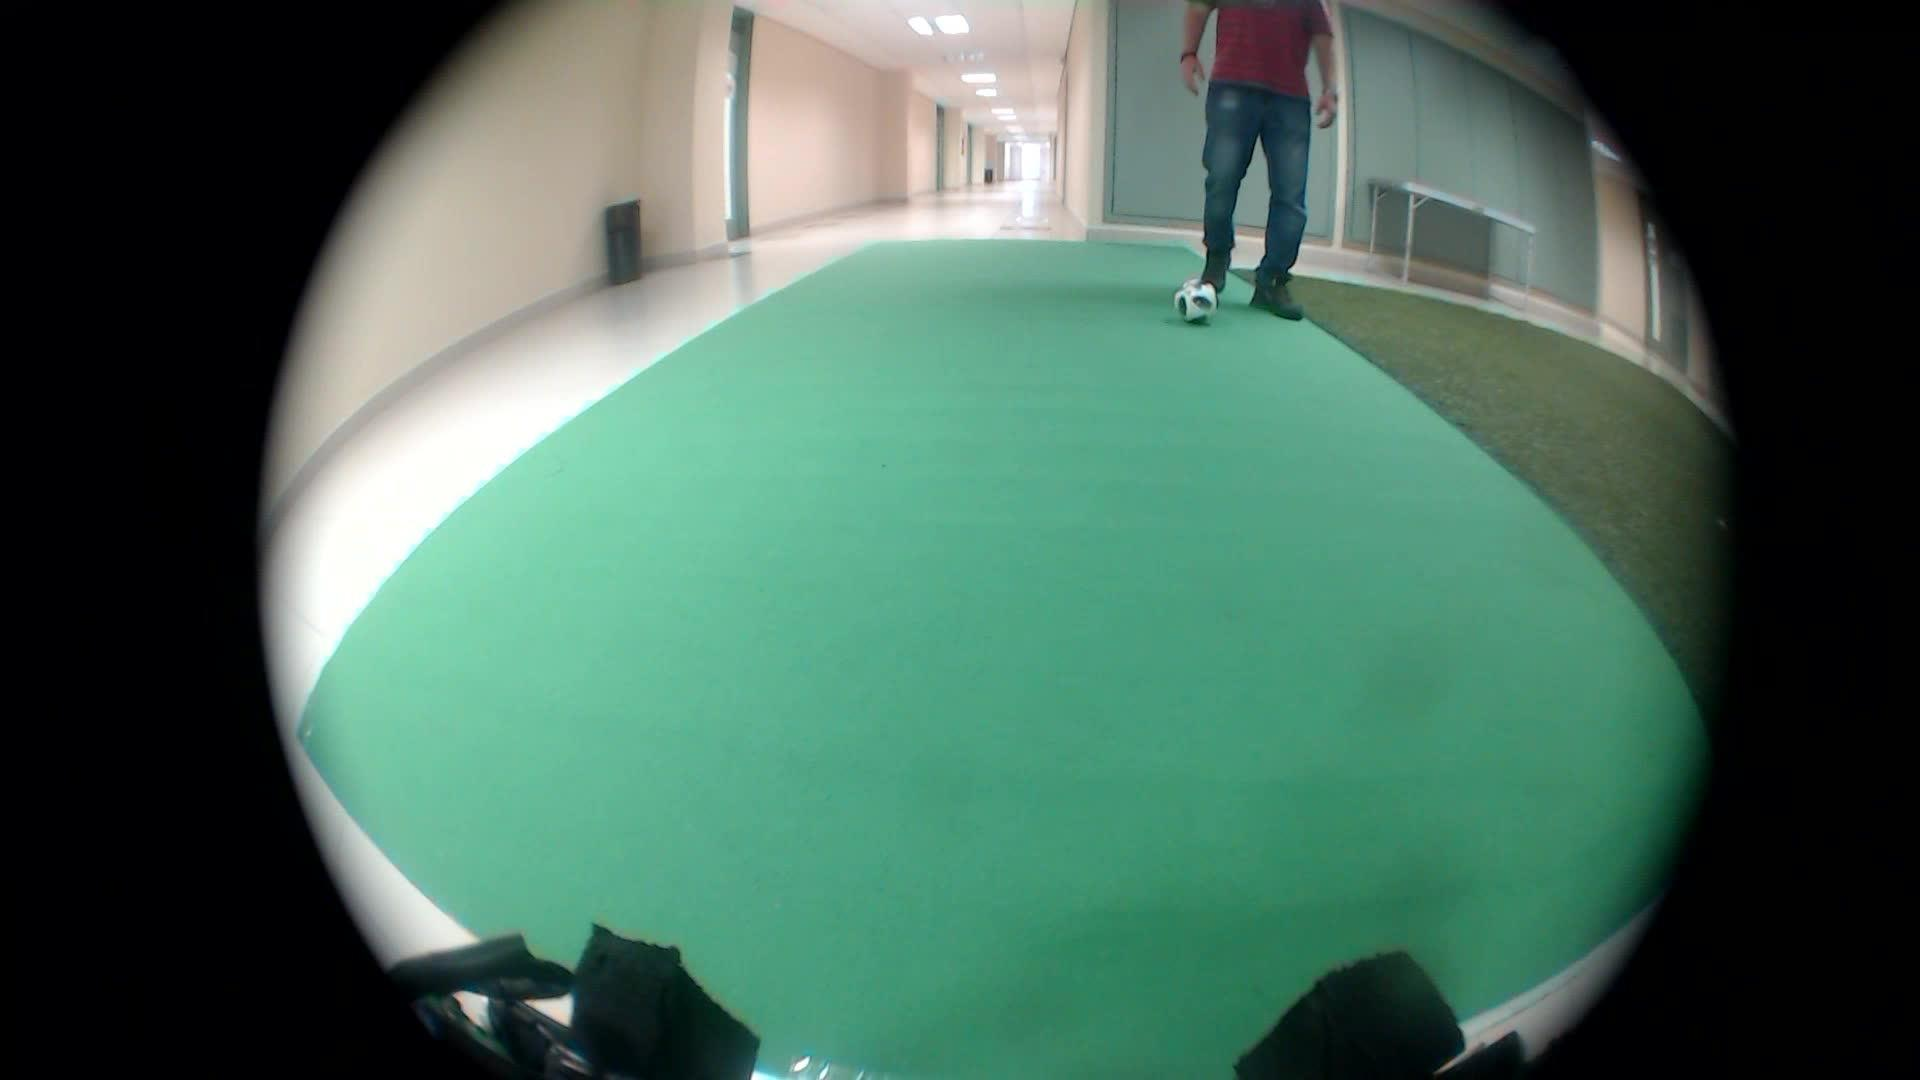ball: (1168, 274, 1224, 332)
